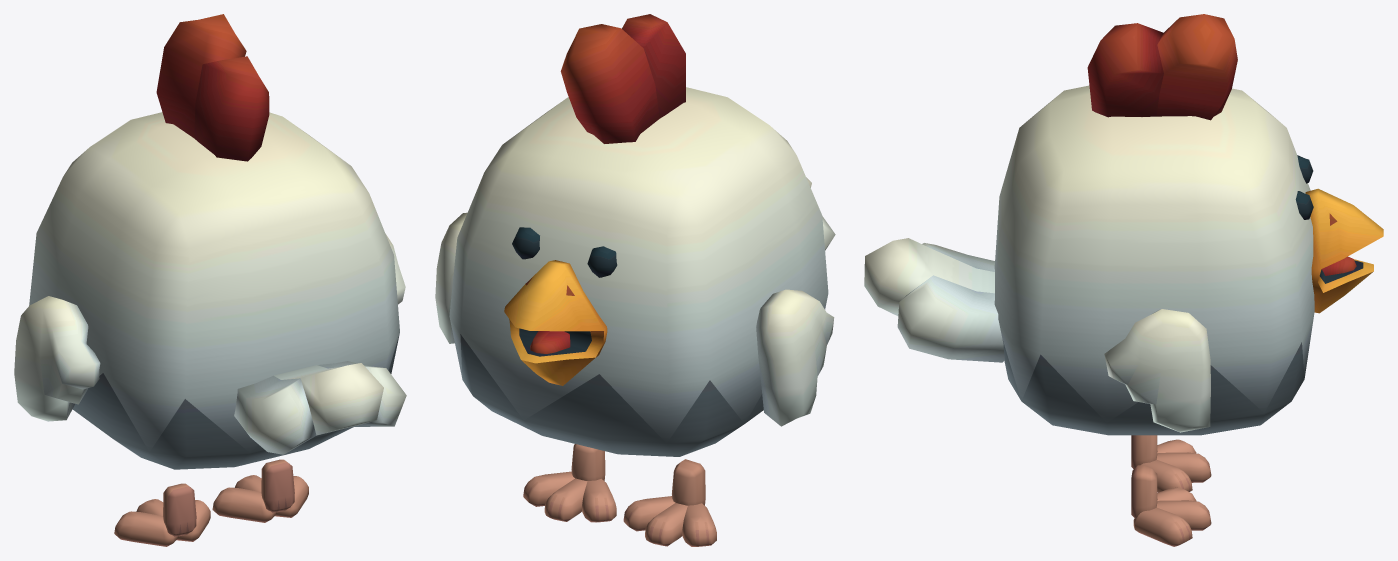
3 views of the same model, side by side, from view 1: azimuth 30°, elevation 25°; view 2: azimuth 150°, elevation 25°; view 3: azimuth 270°, elevation 25° (orthographic). The views are drawn at different scales.
Visible parts, largest first — view 1: RudyHead.001, RudyHead, H1.001, T1.001, MeshL, male_foot_left_bruce.007, male_foot_left_bruce.002, male_foot_left_bruce.003, male_foot_left_bruce.008, male_foot_left_bruce.001, male_foot_left_bruce.006; view 2: RudyHead, RudyHead.001, H1.001, MeshL, S2.001, MeshR, male_foot_left_bruce.008, male_foot_left_bruce.005, male_foot_left_bruce, male_foot_left_bruce.007, male_foot_left_bruce.002, male_foot_left_bruce.003 (+5 smaller); view 3: RudyHead.001, RudyHead, H1.001, T1.001, MeshR, S2.001, male_foot_left_bruce.001, male_foot_left_bruce.003, male_foot_left_bruce, male_foot_left_bruce.005, male_foot_left_bruce.006, male_foot_left_bruce.008.
Boxes of the visible parts, x1,y1,x2,y2 form: RudyHead.001: (29, 112, 399, 453); RudyHead: (29, 184, 398, 469); H1.001: (156, 14, 269, 161); T1.001: (234, 361, 406, 454); MeshL: (14, 296, 100, 421); male_foot_left_bruce.007: (114, 511, 177, 546); male_foot_left_bruce.002: (212, 487, 275, 522); male_foot_left_bruce.003: (261, 459, 294, 512); male_foot_left_bruce.008: (163, 483, 196, 536); male_foot_left_bruce.001: (275, 476, 308, 517); male_foot_left_bruce.006: (176, 500, 210, 541); RudyHead: (450, 134, 828, 456); RudyHead.001: (449, 87, 827, 456); H1.001: (560, 14, 685, 143); MeshL: (756, 289, 834, 426); S2.001: (504, 260, 607, 385); MeshR: (435, 212, 467, 343); male_foot_left_bruce.008: (672, 459, 705, 505); male_foot_left_bruce.005: (645, 503, 687, 546); male_foot_left_bruce: (544, 478, 587, 521); male_foot_left_bruce.007: (682, 503, 716, 546); male_foot_left_bruce.002: (582, 478, 616, 522); male_foot_left_bruce.003: (571, 444, 605, 480); RudyHead.001: (994, 85, 1314, 435); RudyHead: (997, 142, 1314, 435); H1.001: (1087, 14, 1237, 120); T1.001: (864, 238, 1004, 362); MeshR: (1104, 309, 1210, 432); S2.001: (1305, 188, 1383, 313); male_foot_left_bruce.001: (1133, 507, 1192, 546); male_foot_left_bruce.003: (1131, 465, 1157, 518); male_foot_left_bruce: (1156, 500, 1211, 530); male_foot_left_bruce.005: (1156, 452, 1211, 482); male_foot_left_bruce.006: (1141, 459, 1192, 492); male_foot_left_bruce.008: (1131, 435, 1157, 469).
Size of the model in its own units: 0.0148 by 0.0193 by 0.0186.
Materials: 2 (2 with a texture image).
